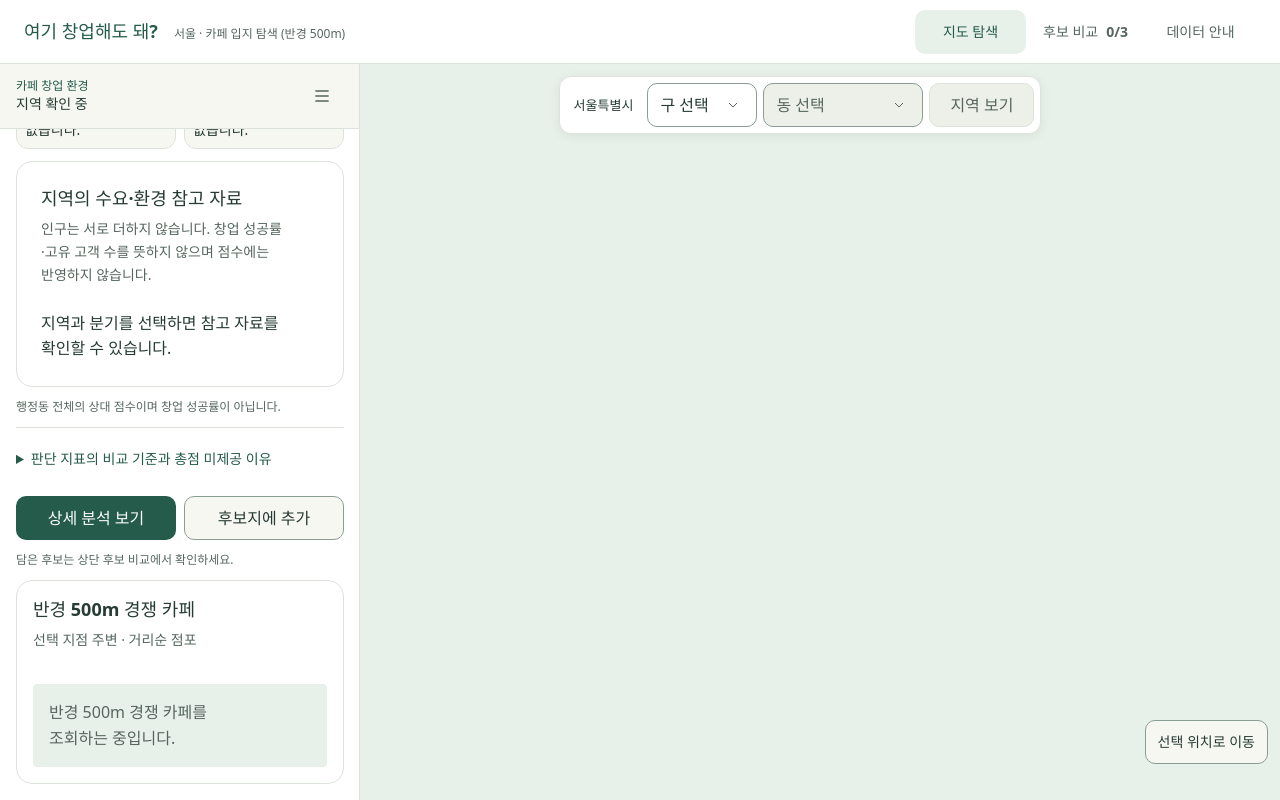
Test case: shows total count and truncated list separately
The image size is (1280, 800).
(page scrolled)
Expected: the dropdown named "자치구" is enabled, [647, 83, 757, 127]
Click the button "상세 분석 보기" at (96, 518), box [16, 496, 176, 540]
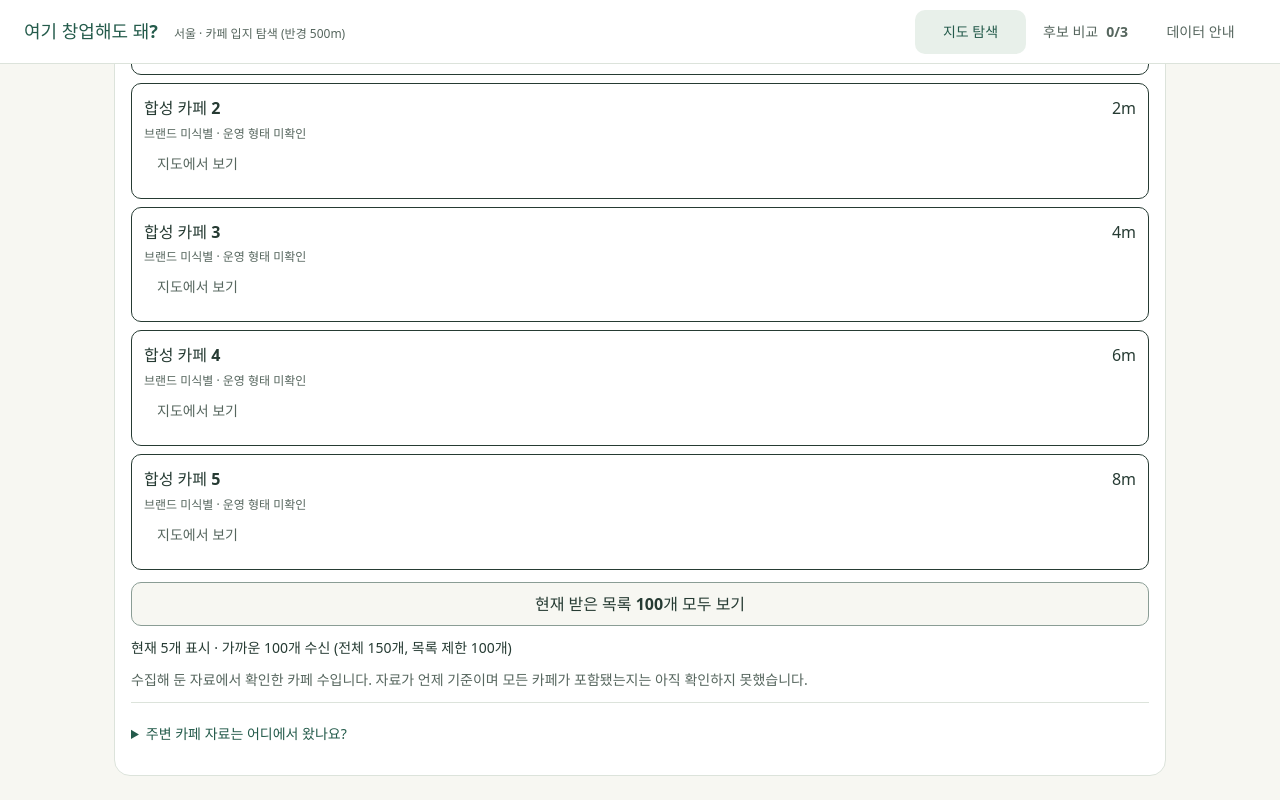
Now the text "현재 5개 표시 · 가까운 100개 수신 (전체 150개, 목록 제한 100개)" is shown, box [131, 638, 512, 656]
